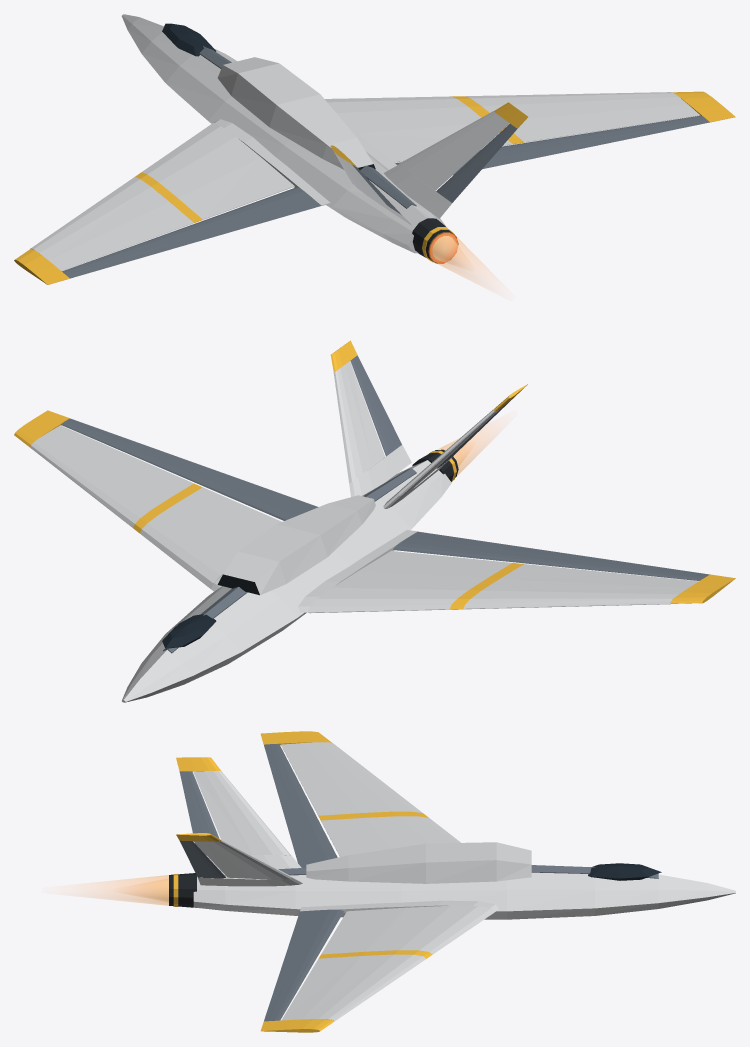
Rendered from jet-plane-B4IHEfKR.glb.
3 views of the same model, one above another, from view 1: azimuth 30°, elevation 25°; view 2: azimuth 150°, elevation 25°; view 3: azimuth 270°, elevation 25° (orthographic). The views are drawn at different scales.
Parts seen in each view (by area): view 1: Body, Trim, AileronRightMid, AileronLeftMid, FlapLeftMid, ExhaustPlume, RuddervatorRightMid, Mid, Glass, Dark, ExhaustCore, FlapRightMid (+1 smaller); view 2: Body, Trim, AileronRightMid, AileronLeftMid, FlapLeftMid, FlapRightMid, RuddervatorRightMid, Mid, Glass, Dark, ExhaustPlume; view 3: Body, Trim, AileronLeftMid, ExhaustPlume, FlapRightMid, AileronRightMid, FlapLeftMid, RuddervatorLeftMid, Glass, RuddervatorRightMid, Dark, Mid (+1 smaller).
Part boxes in pixels (x1,y1,x2,y2): Body: (30,14,700,271); Trim: (14,91,735,284); AileronRightMid: (515,115,709,158); AileronLeftMid: (62,220,222,278); FlapLeftMid: (205,187,321,234); ExhaustPlume: (428,232,489,285); RuddervatorRightMid: (436,123,516,202); Mid: (199,46,416,208); Glass: (162,23,216,56); Dark: (358,164,458,263); ExhaustCore: (432,236,466,267); FlapRightMid: (395,144,532,174); Body: (30,361,698,702); Trim: (14,340,735,609); AileronRightMid: (61,418,222,486); AileronLeftMid: (514,548,709,580); FlapLeftMid: (393,531,531,562); FlapRightMid: (204,473,318,520); RuddervatorRightMid: (350,355,401,456); Mid: (163,468,416,653); Glass: (162,614,216,648); Dark: (217,449,458,595); ExhaustPlume: (438,426,494,475); Body: (193,742,735,1021); Trim: (173,731,432,1032); AileronLeftMid: (264,744,318,820); ExhaustPlume: (92,875,168,905); FlapRightMid: (286,909,343,954); AileronRightMid: (264,953,318,1021); FlapLeftMid: (286,819,337,867); RuddervatorLeftMid: (179,771,219,855); Glass: (588,863,661,880); RuddervatorRightMid: (180,840,225,878); Dark: (169,873,196,907); Mid: (225,865,658,878).
Bounding box in the file's own units: 2 × 0.3632 × 2.05.
